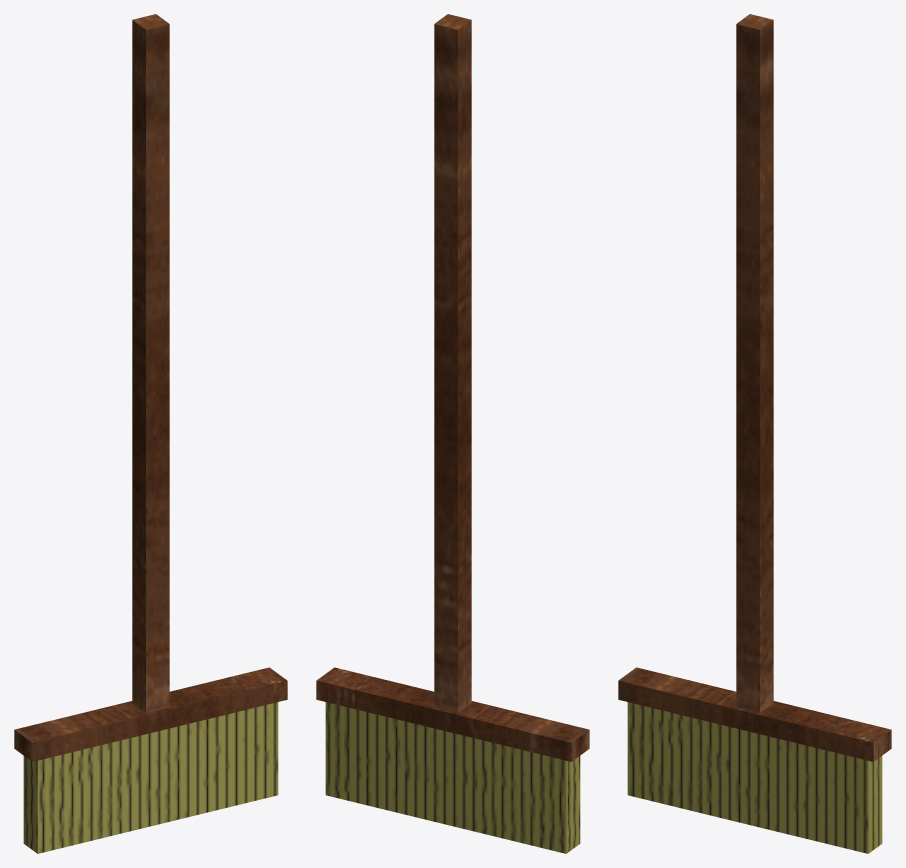
File: broom.fbx
3 views of the same model, side by side, from view 1: azimuth 30°, elevation 25°; view 2: azimuth 150°, elevation 25°; view 3: azimuth 330°, elevation 25° (orthographic).
Visible parts, largest first — view 1: Cube.006, Cube.001, Cube; view 2: Cube.006, Cube.001, Cube; view 3: Cube.006, Cube.001, Cube.
Boxes of the visible parts, x1,y1,x2,y2 form: Cube.006: (132,14,169,712); Cube.001: (23,702,278,853); Cube: (14,667,287,761); Cube.006: (434,14,471,712); Cube.001: (325,702,580,853); Cube: (316,667,589,761); Cube.006: (736,14,773,712); Cube.001: (627,702,882,853); Cube: (618,667,891,761).
Bounding box in the file's own units: 46.42 × 139 × 5.68.
